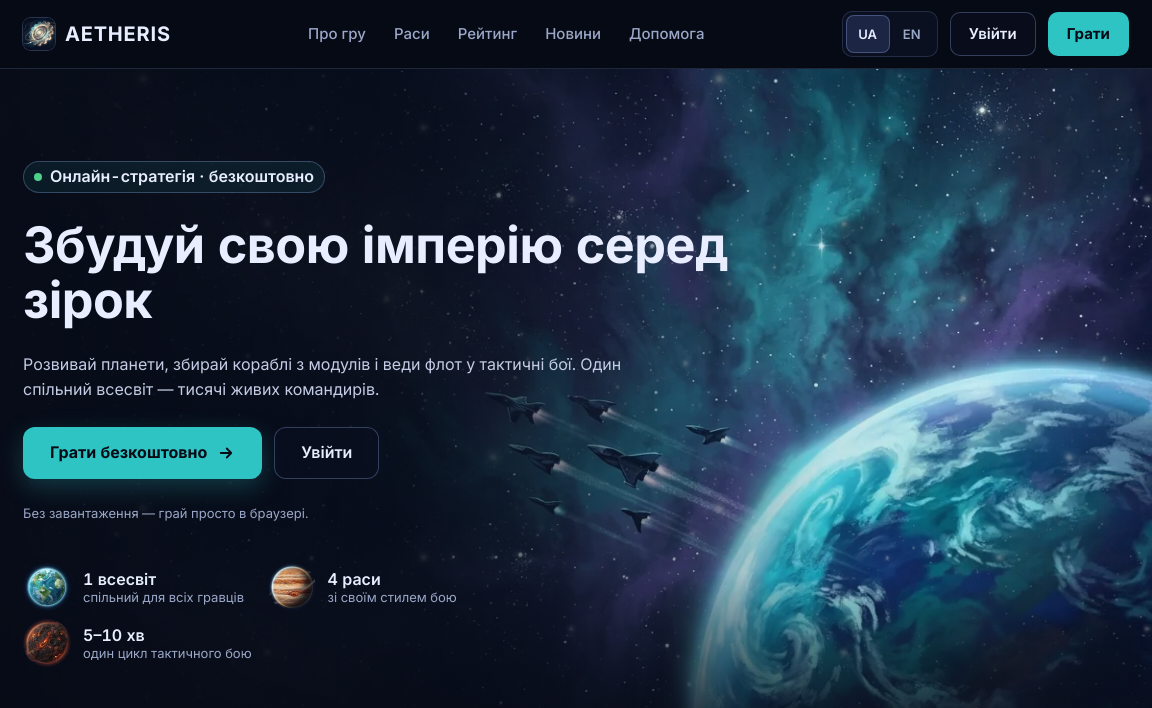
LandingPage › switches the language of every text and remembers it
The image size is (1152, 708).
Click the button "EN" at (912,34), box [890, 15, 934, 53]
(page scrolled)
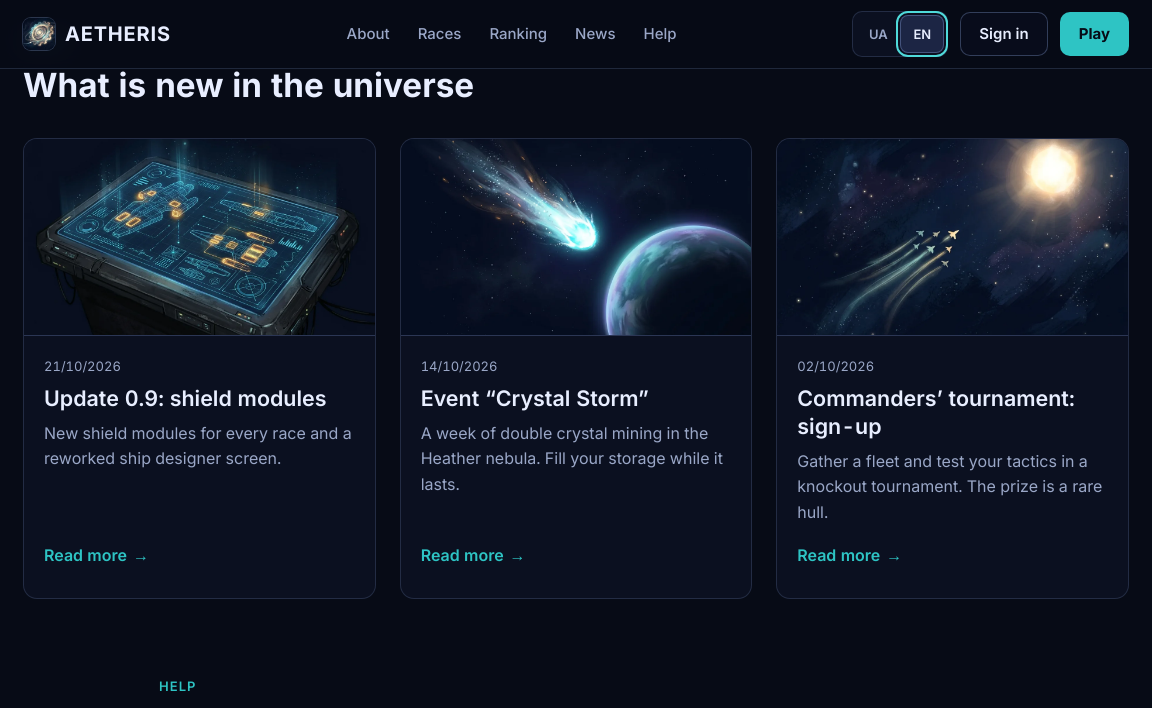
Expected: the heading "Update 0.9: shield modules" is shown, [44, 385, 355, 413]
